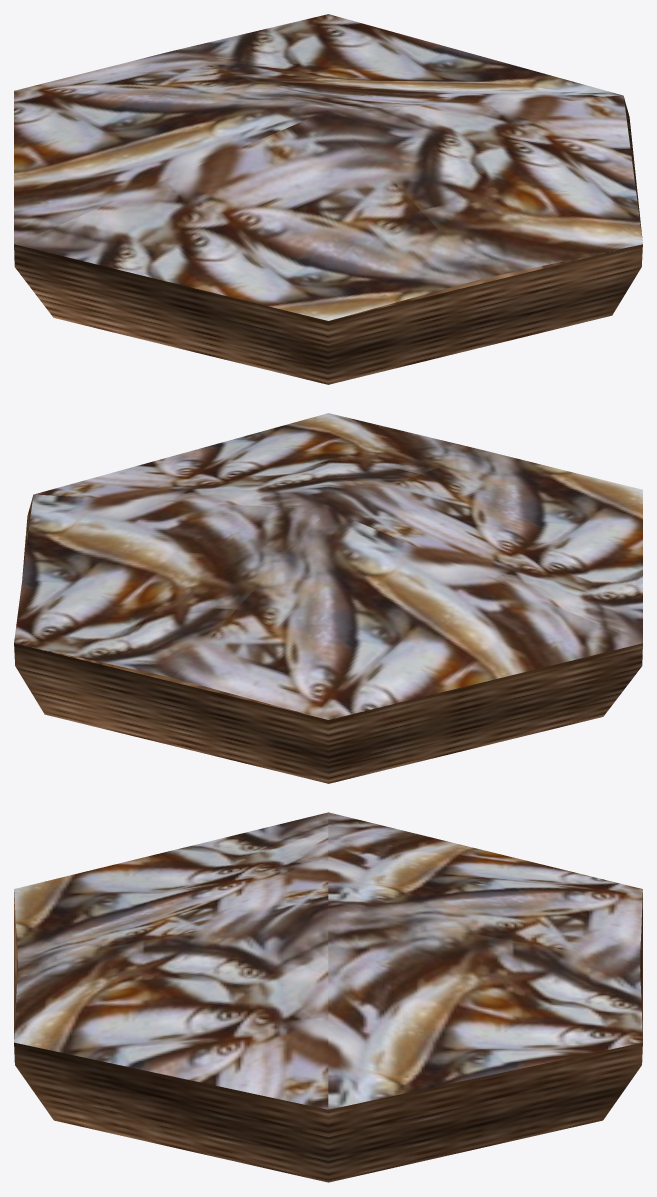
Rendered from fishbasket.fbx.
3 renders of one model, top to bottom at view 1: azimuth 30°, elevation 25°; view 2: azimuth 150°, elevation 25°; view 3: azimuth 270°, elevation 25°, orthographic.
Visible parts, largest first — view 1: pPlane1, High; view 2: pPlane1, High; view 3: pPlane1, High.
Part boxes in pixels (x1,y1,x2,y2): pPlane1: (14,14,642,320); High: (14,96,642,384); pPlane1: (14,413,642,719); High: (14,495,642,783); pPlane1: (14,812,642,1109); High: (14,892,642,1182).
Bounding box in the file's own units: 91.92 × 23.59 × 81.34.
1 material, 1 textured.
